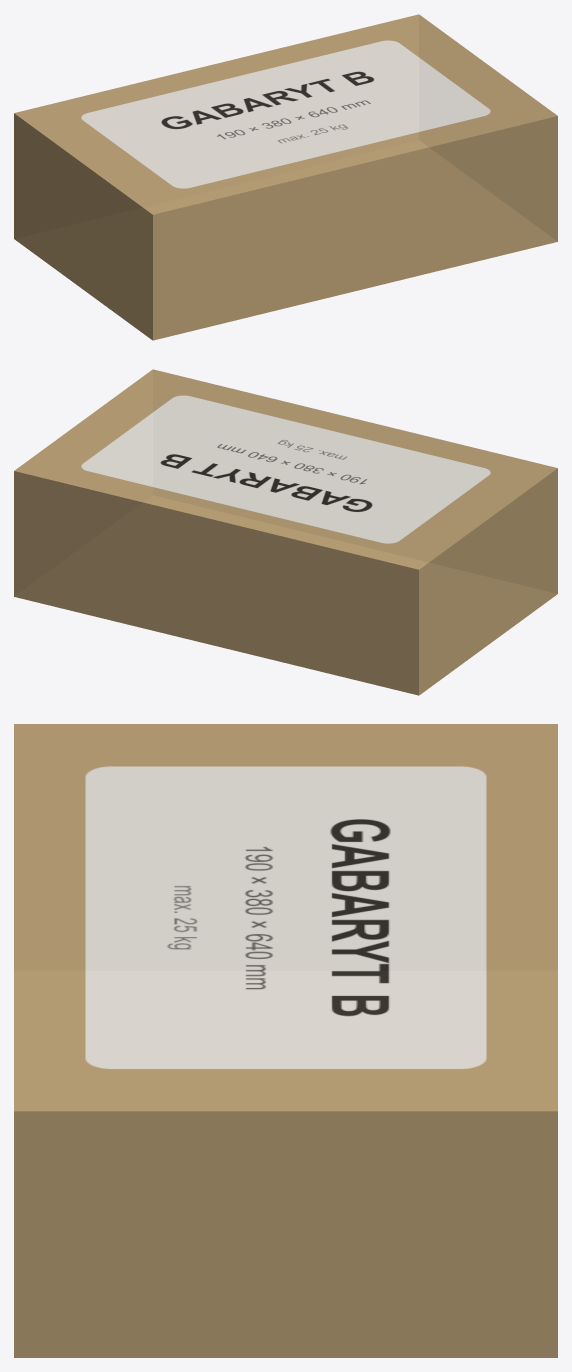
The model's file is gabaryt-b.glb.
3 views of the same model, one above another, from view 1: azimuth 30°, elevation 25°; view 2: azimuth 150°, elevation 25°; view 3: azimuth 270°, elevation 25° (orthographic). The views are drawn at different scales.
Visible parts, largest first — view 1: gabaryt-b; view 2: gabaryt-b; view 3: gabaryt-b.
Part boxes in pixels (<box>): gabaryt-b: <box>14,14,557,340</box>; gabaryt-b: <box>14,369,557,695</box>; gabaryt-b: <box>14,724,557,1357</box>.
Size of the model in its own units: 0.64 by 0.19 by 0.38.
1 material, 1 textured.
